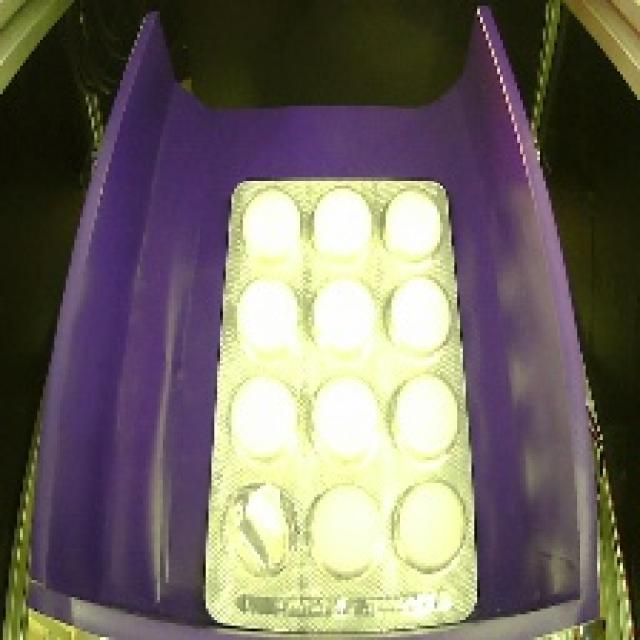med_plate: (194, 156, 490, 640)
